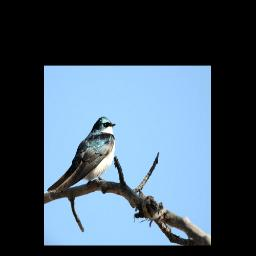Swallow: (46, 116, 116, 194)
